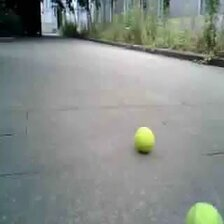tennis: (183, 201, 224, 224), (133, 126, 153, 152)
